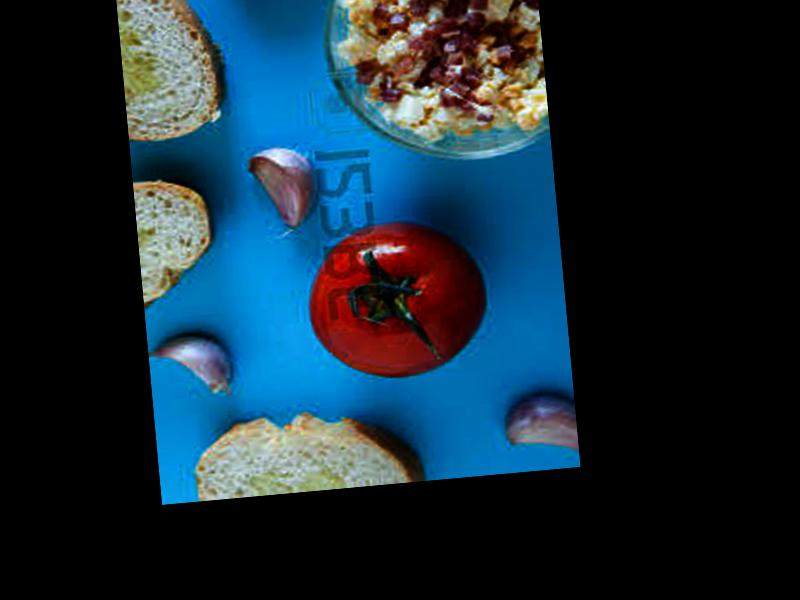Tomato: (301, 220, 491, 384)
